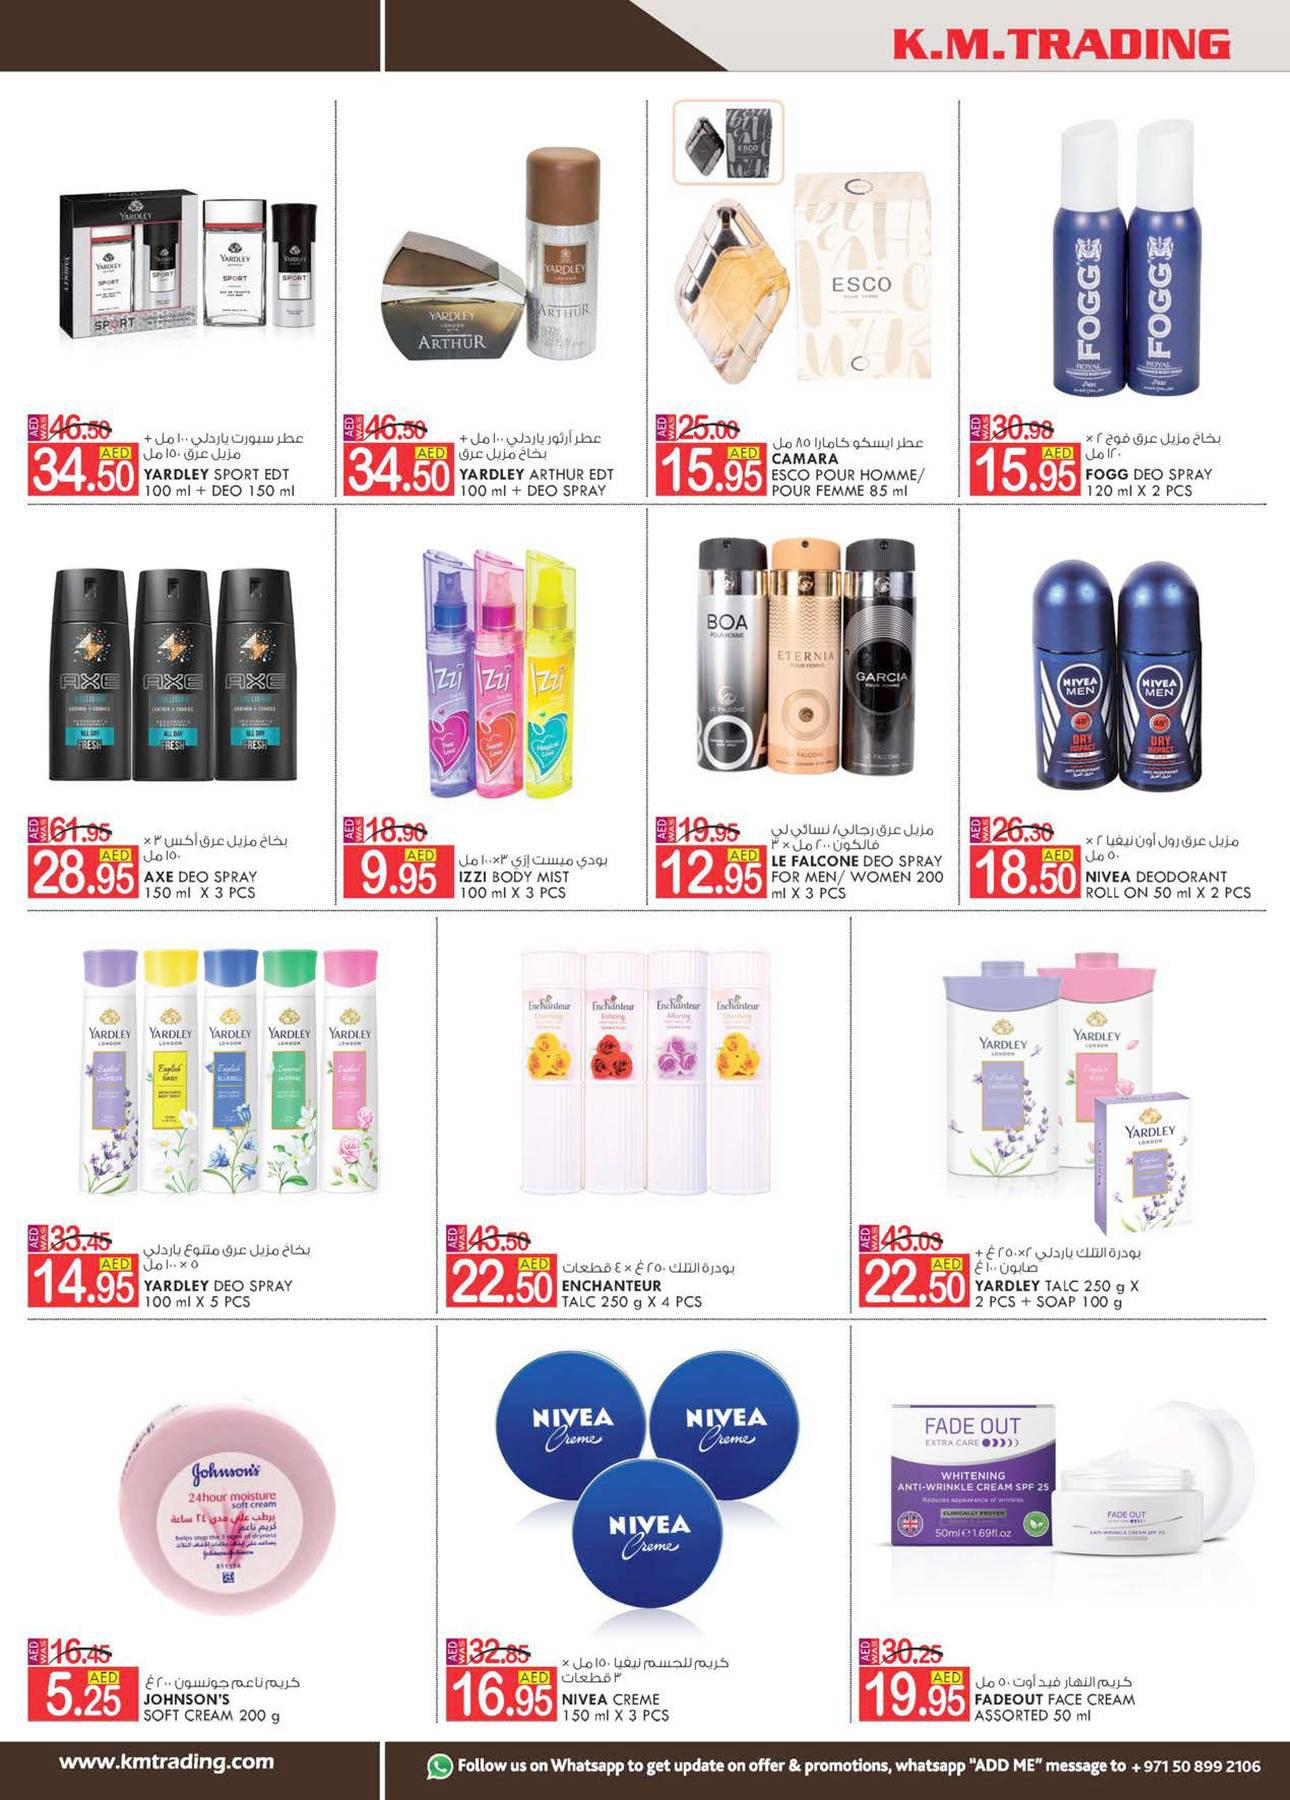text: (766, 811, 951, 906), (557, 1245, 771, 1320), (141, 1231, 324, 1316), (1082, 822, 1258, 908), (970, 1238, 1155, 1319), (140, 421, 318, 504), (141, 822, 316, 906), (558, 1647, 736, 1727), (457, 423, 630, 500), (766, 423, 940, 500), (1081, 419, 1236, 502), (457, 833, 628, 908), (973, 1662, 1145, 1732), (140, 1670, 309, 1730)
